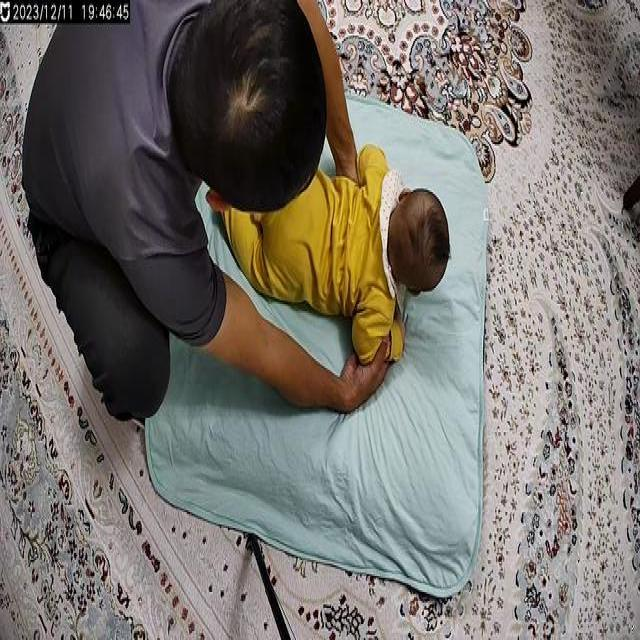baby: (215, 140, 453, 368)
